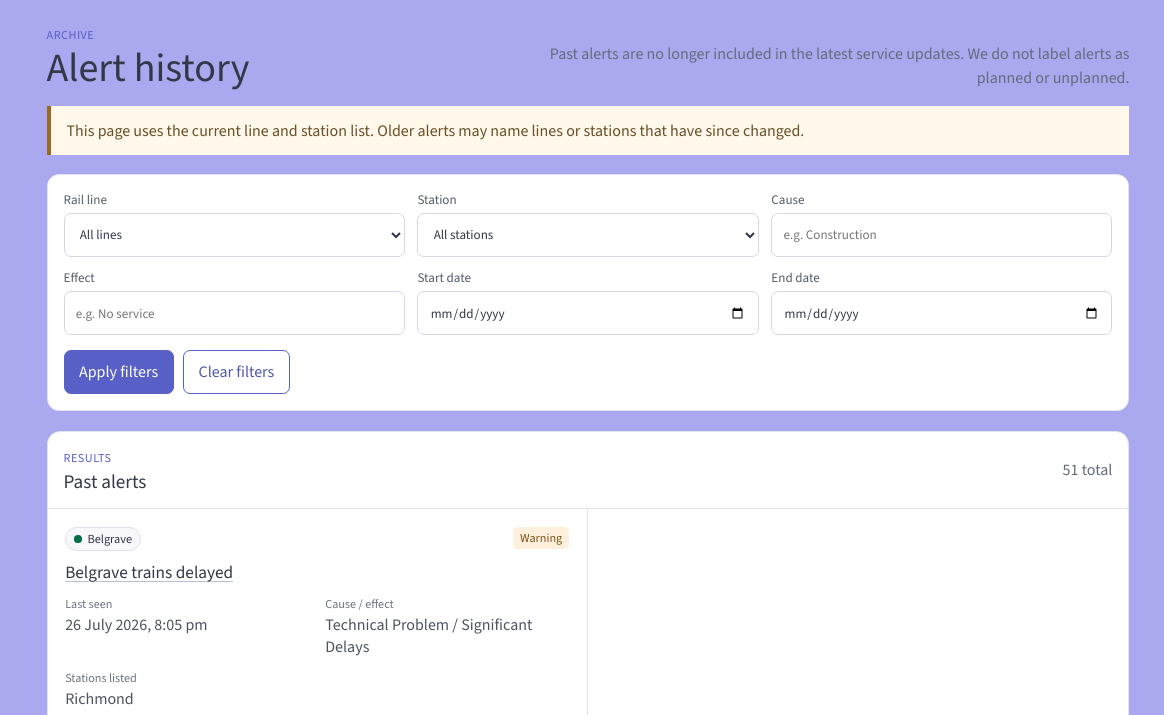
Test case: AlertHistoryPage › applies URL-backed filters, sends exact UTC request values, and preserves them across pagination
Select "Belgrave" in the dropdown labelled "Rail line": (234, 235) [64, 213, 405, 257]
Select "Richmond" in the dropdown labelled "Station": (588, 235) [417, 213, 758, 257]
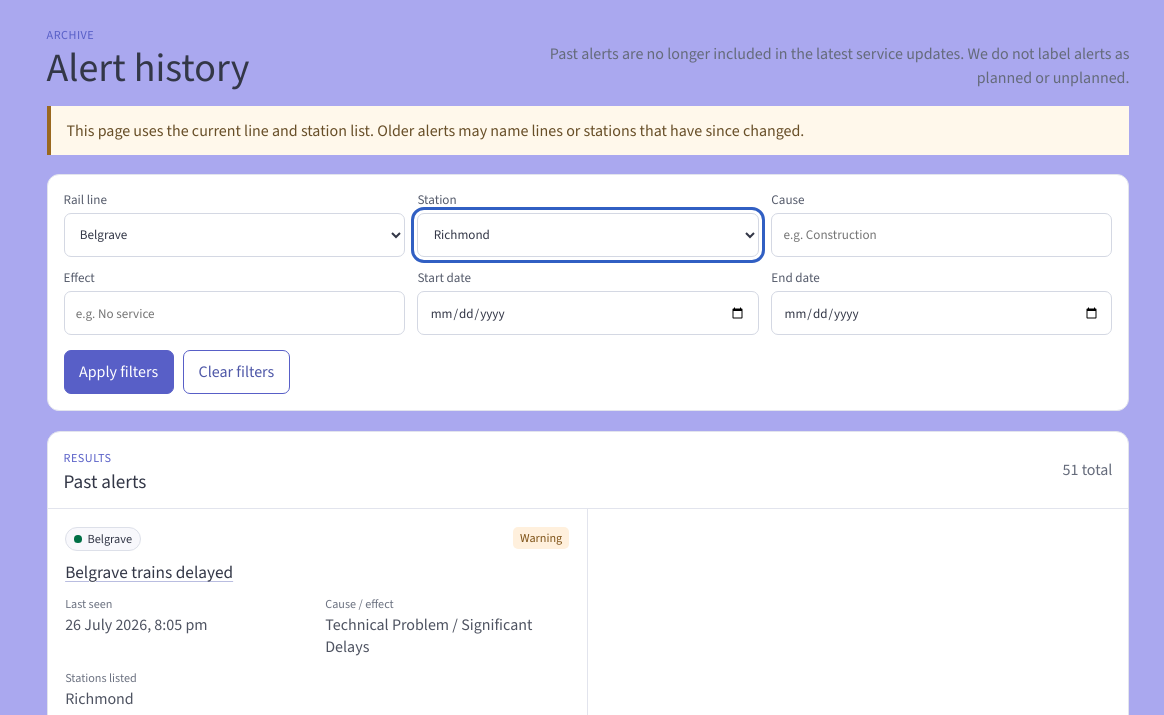
In the field labelled "Cause": (942, 235) [771, 213, 1112, 257], type "CONSTRUCTION"
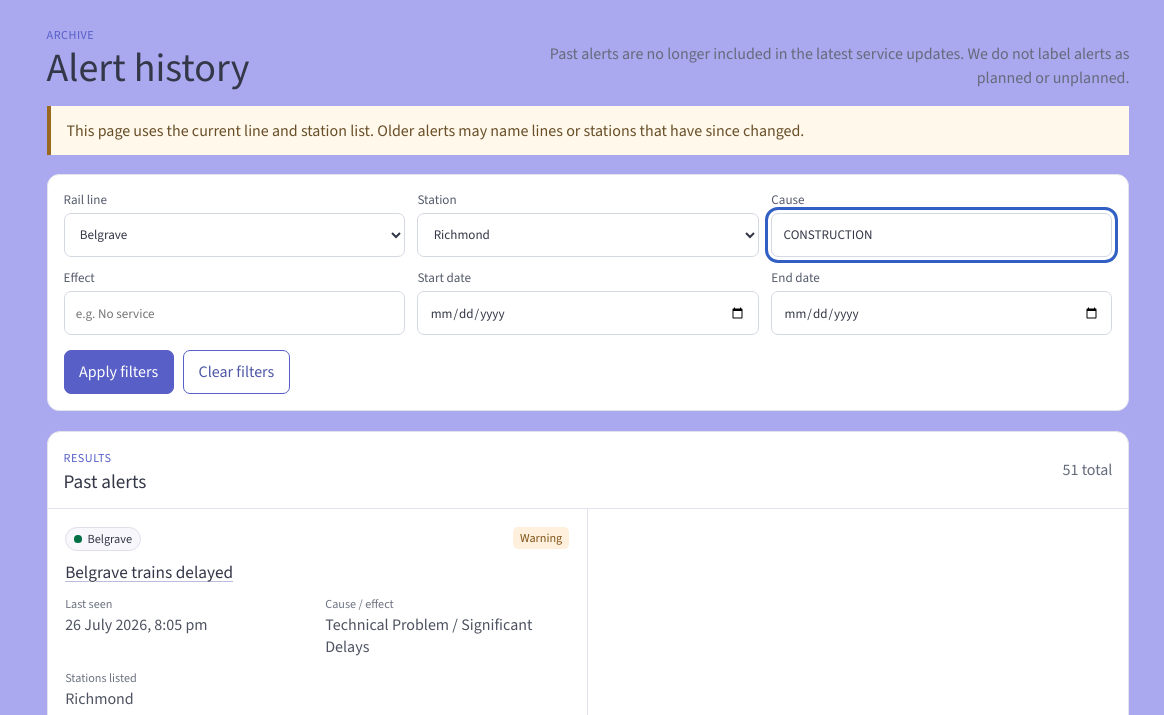
In the field labelled "Effect": (234, 313) [64, 291, 405, 335], type "NO_SERVICE"
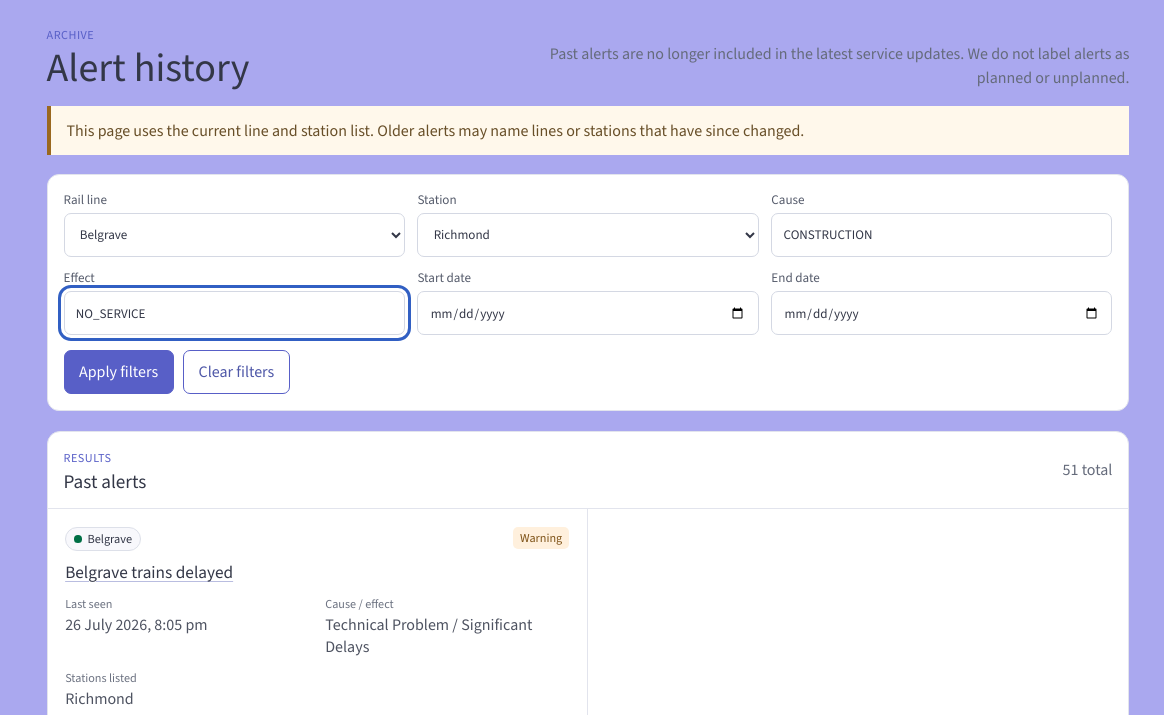
In the date field labelled "Start date": (588, 313) [417, 291, 758, 335], type "2026-07-01"
In the date field labelled "End date": (942, 313) [771, 291, 1112, 335], type "2026-08-01"
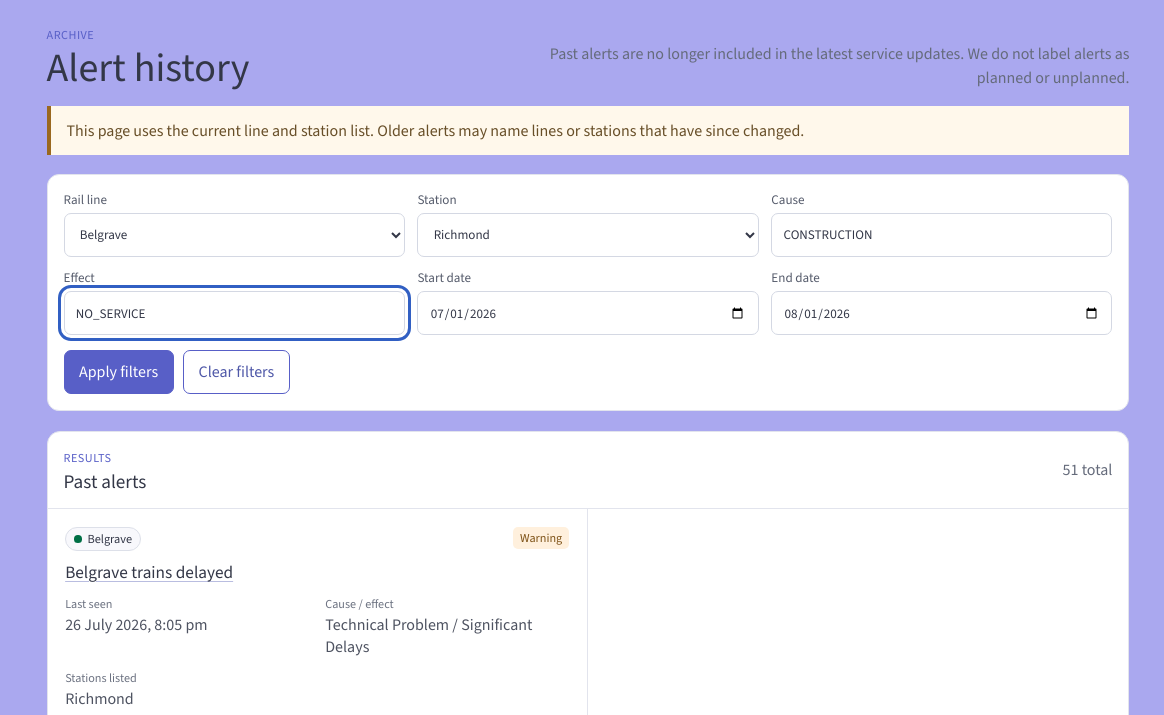
Click the button "Apply filters": click(118, 372) [64, 350, 174, 394]
(page scrolled)
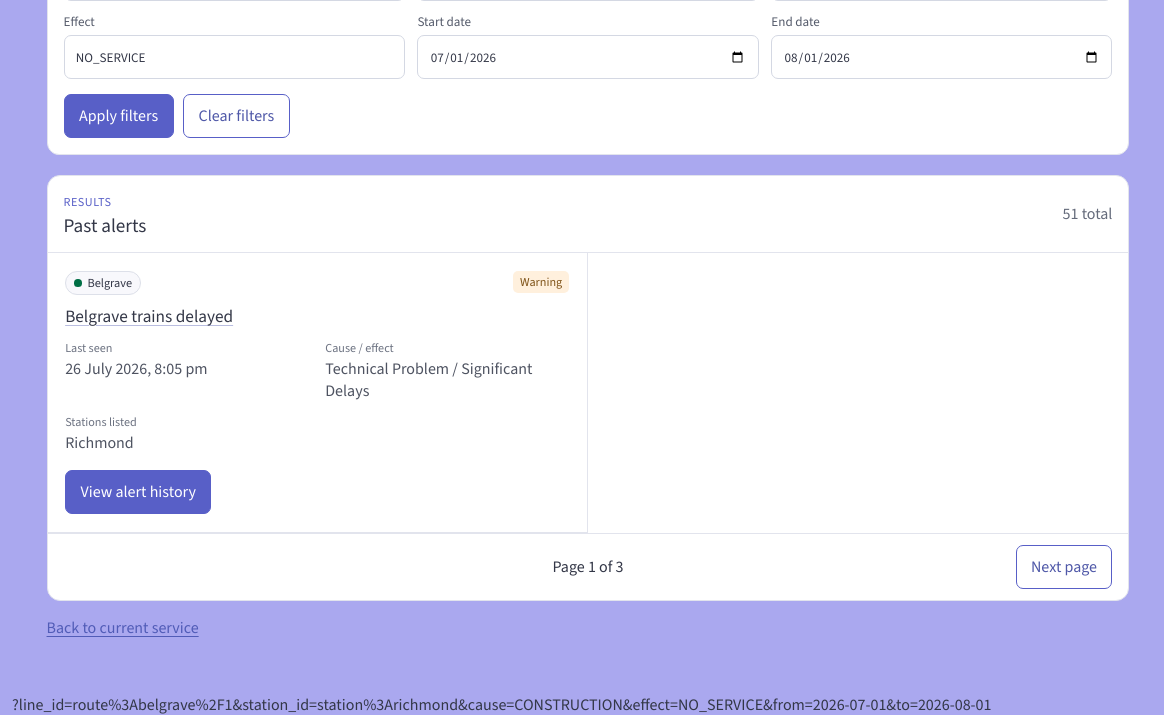
Result: the text named "location" shows "line_id=route%3Abelgrave%2F1" at [12, 694, 992, 714]
Result: the text named "location" shows "from=2026-07-01" at [12, 694, 992, 714]
Result: the text named "location" shows "to=2026-08-01" at [12, 694, 992, 714]
Click the button "Next page": click(1064, 567) [1016, 545, 1112, 589]
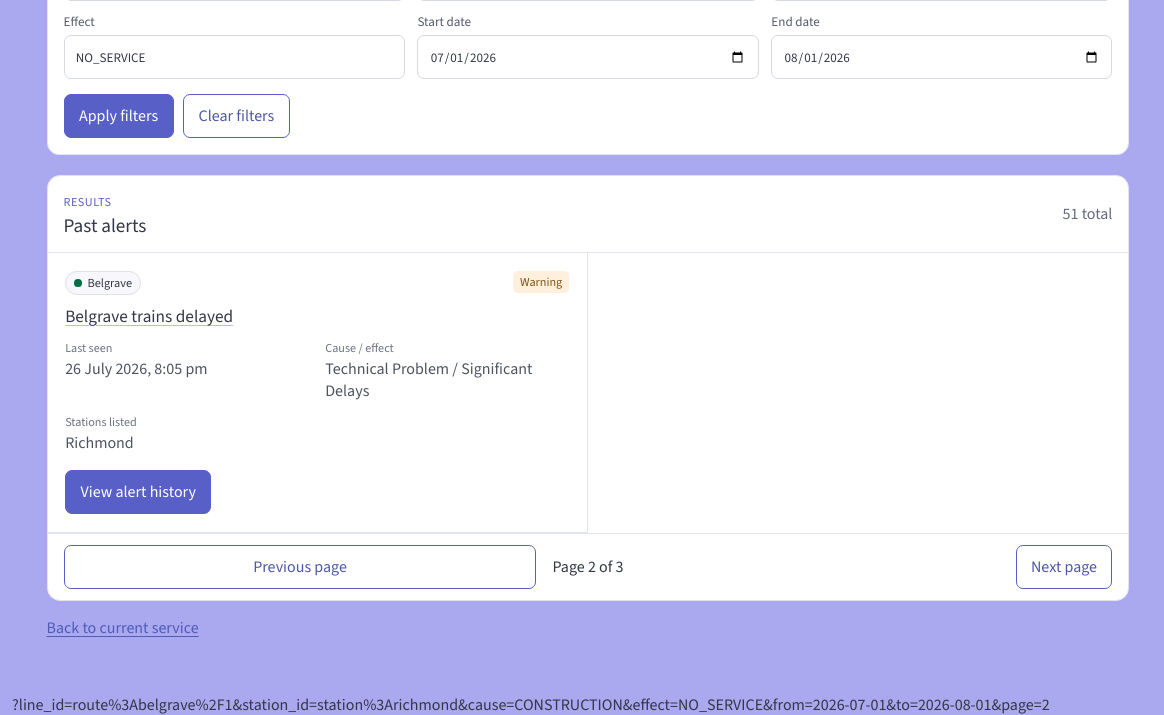
Result: the text named "location" shows "page=2" at [12, 694, 1050, 714]
